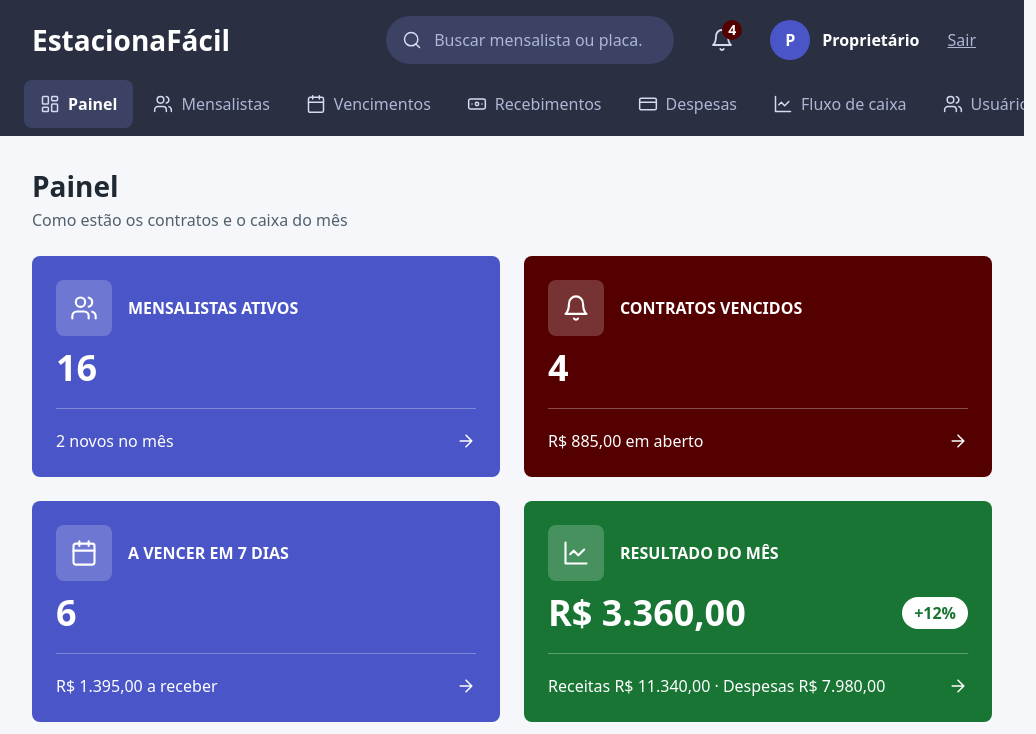
Scenario: casca do app — Proprietário › navega entre as abas
Click the link "Despesas".
click(687, 104)  # box [638, 93, 737, 115]
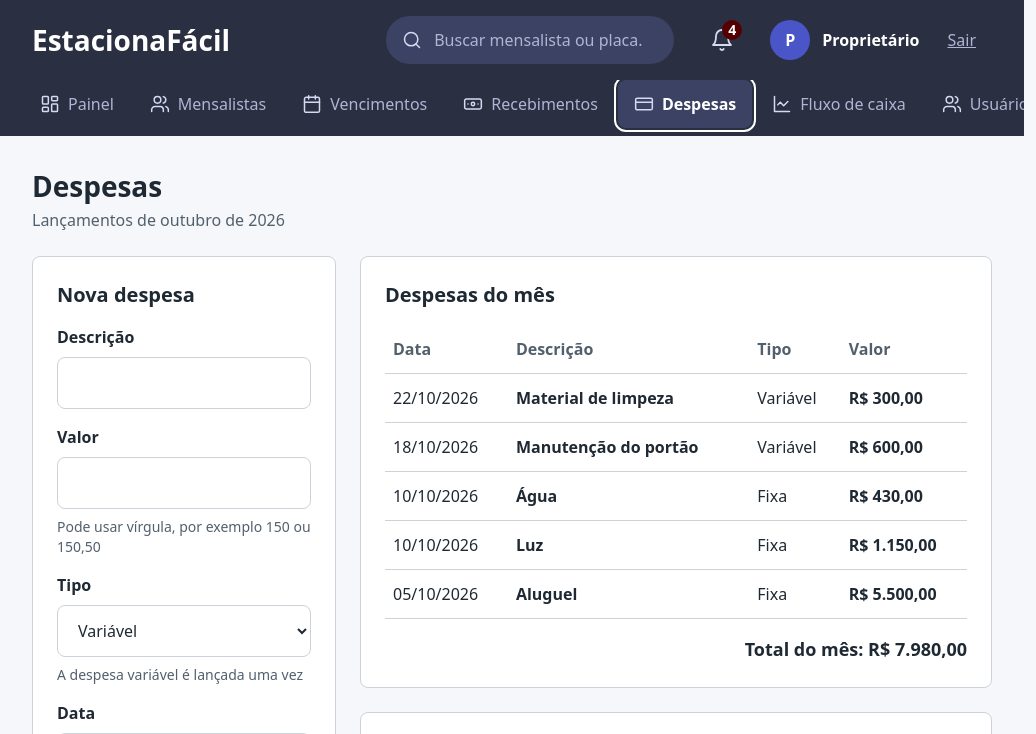
Result: the heading "Despesas" is shown at [32, 167, 162, 205]
